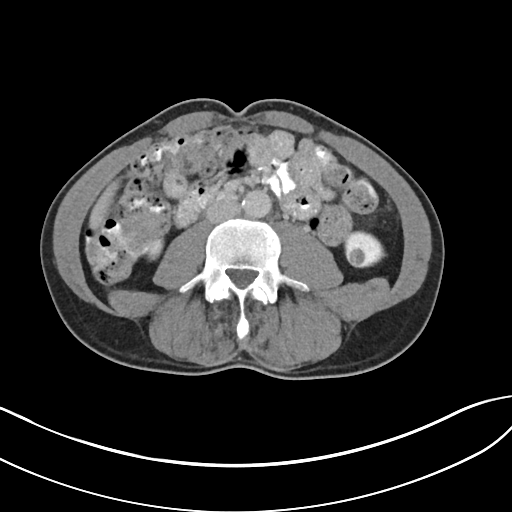Lesion: (346, 247, 368, 266)
